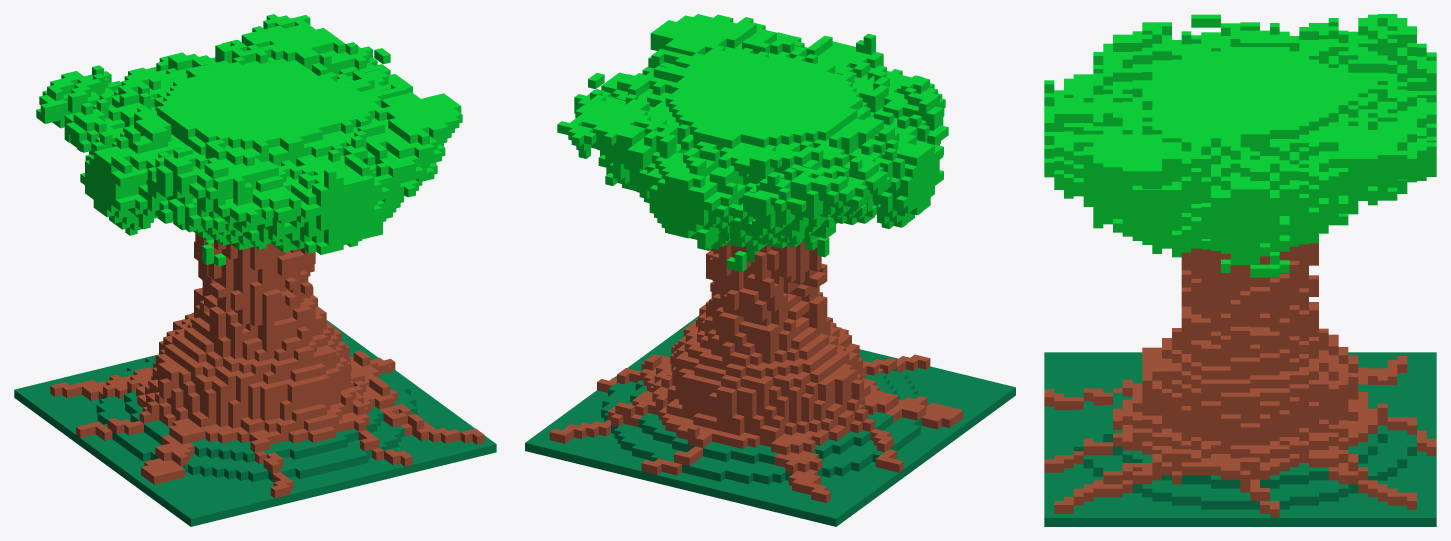
The model's file is BigTree.obj.
3 views of the same model, side by side, from view 1: azimuth 30°, elevation 25°; view 2: azimuth 150°, elevation 25°; view 3: azimuth 270°, elevation 25° (orthographic). The views are drawn at different scales.
Size of the model in its own units: 40 by 40 by 40.
Materials: 1 (1 with a texture image).
